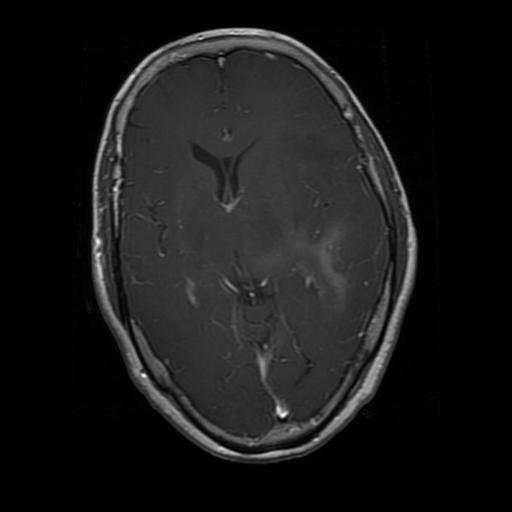Tumour-Glioma: (275, 222, 362, 305)
